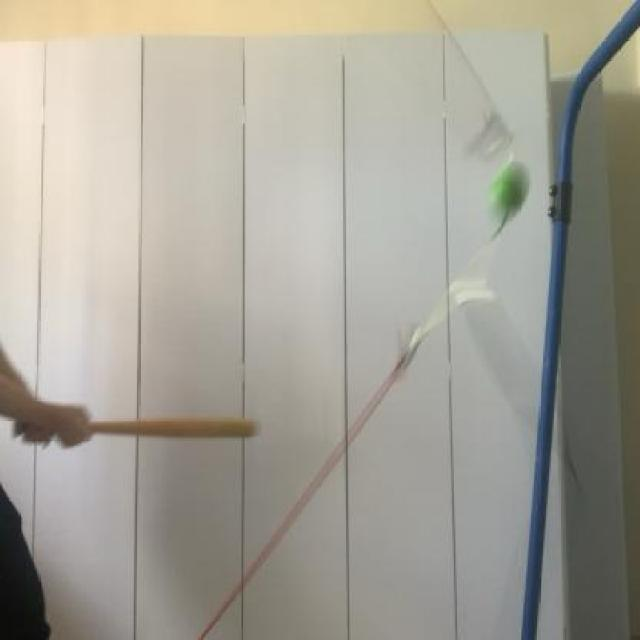baseball: (482, 154, 533, 229)
